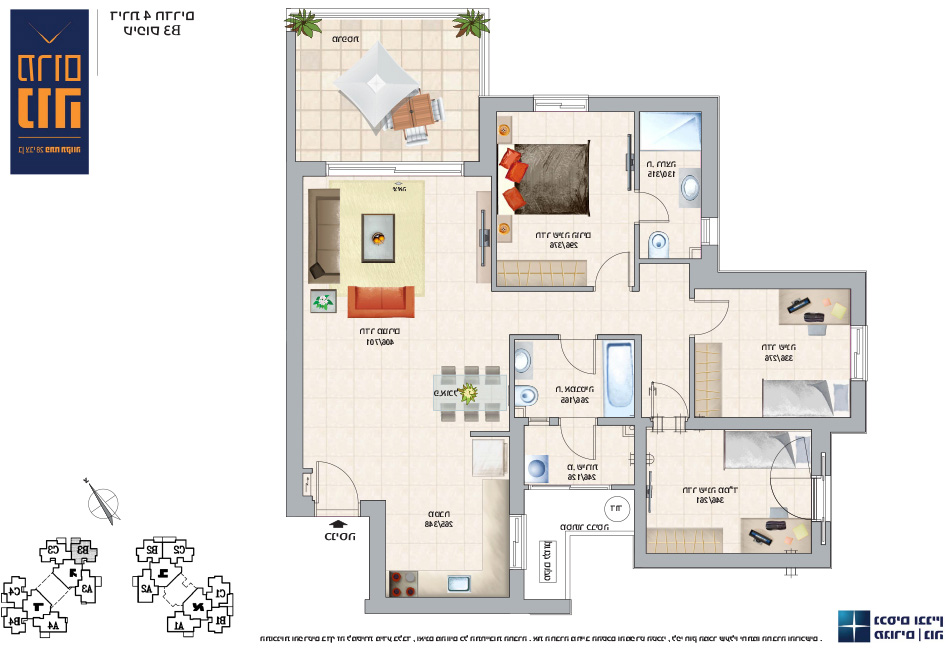door: (556, 340, 600, 379), (588, 246, 632, 285), (556, 424, 600, 463), (647, 376, 691, 415), (315, 459, 359, 498), (697, 297, 732, 336), (642, 188, 672, 226)
wall: (287, 176, 302, 516), (370, 598, 570, 613), (689, 272, 864, 288), (633, 553, 832, 566), (690, 416, 865, 429), (700, 113, 719, 215), (589, 98, 718, 112), (634, 426, 645, 567), (286, 32, 296, 173), (479, 98, 495, 163)
window: (325, 161, 465, 176), (508, 513, 526, 570), (849, 325, 867, 382), (533, 96, 587, 113), (700, 216, 719, 245), (528, 483, 611, 489)
